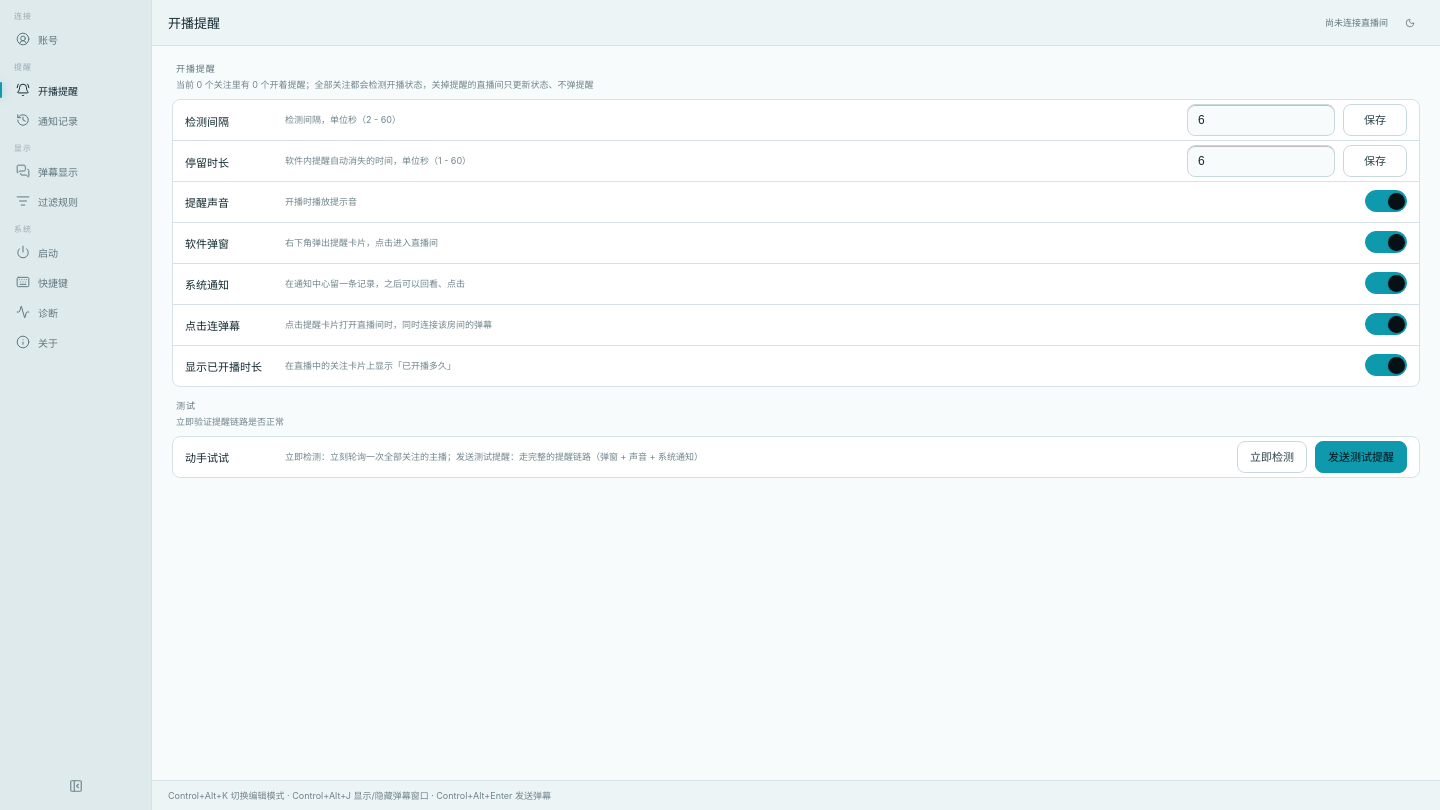
keeps authoritative appearance when display reset fails
Click the button "弹幕显示": [76, 171] box [8, 157, 143, 185]
(page scrolled)
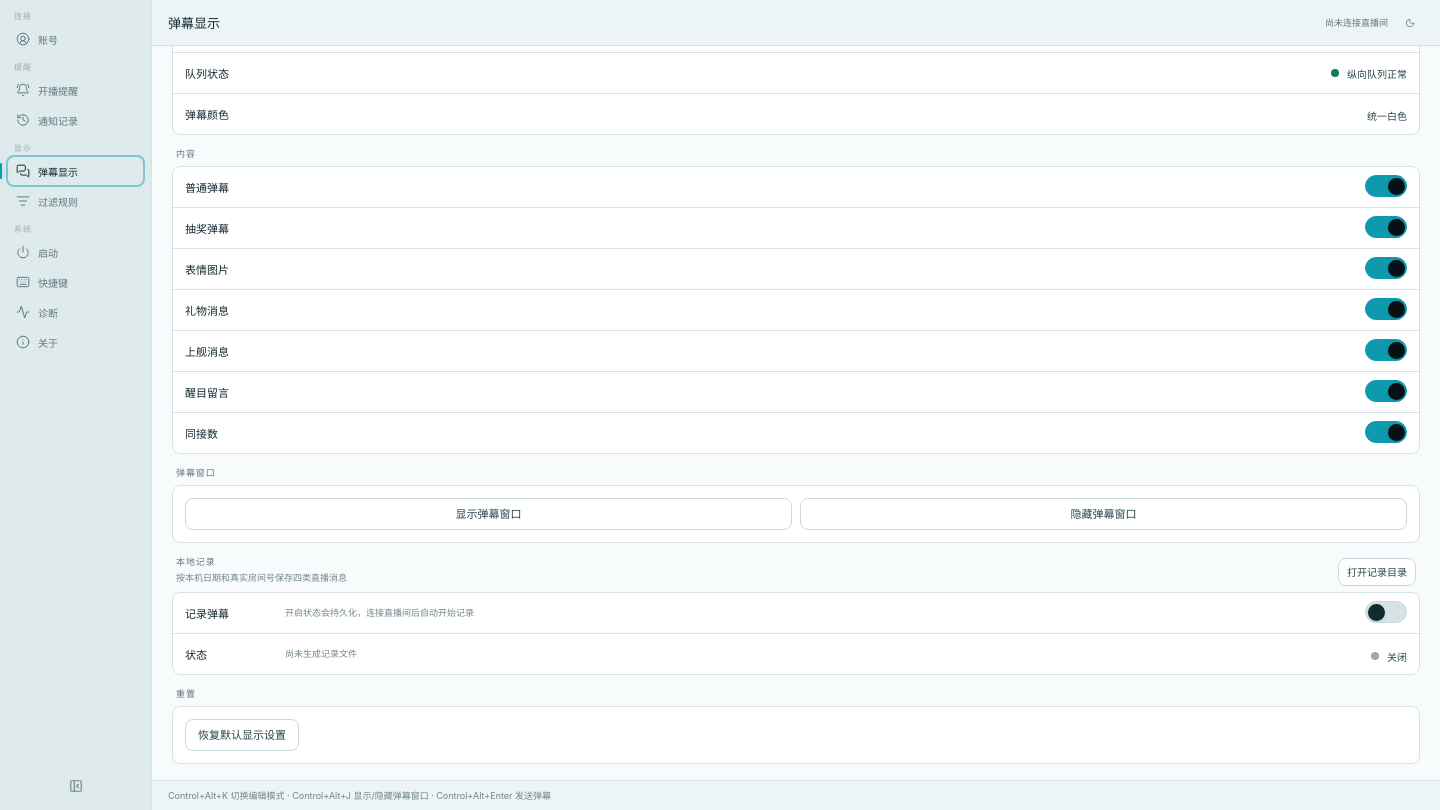
Click the button "恢复默认显示设置": [242, 735] box [185, 719, 299, 751]
(page scrolled)
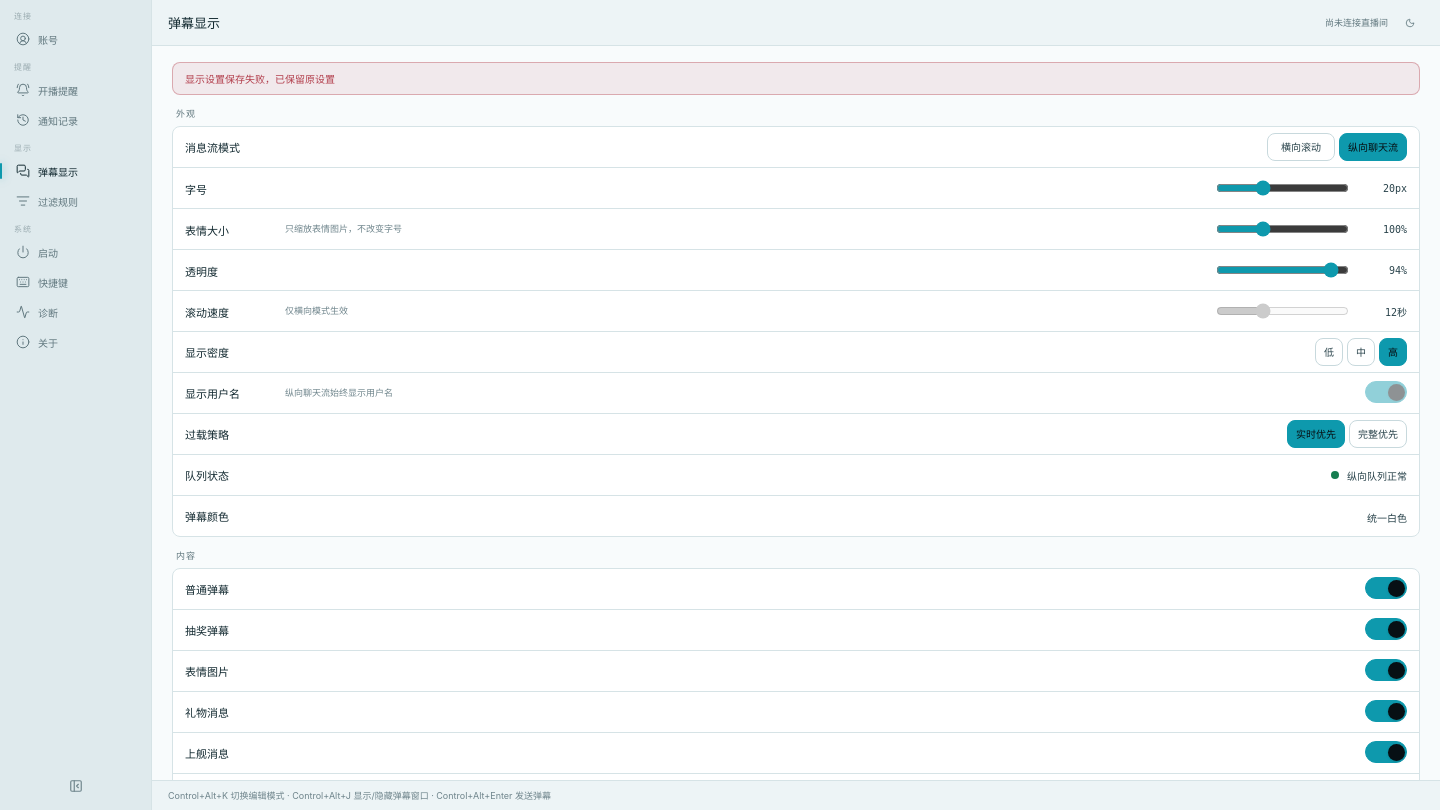
Expected: the message reads "显示设置保存失败，已保留原设置", [185, 73, 335, 85]
